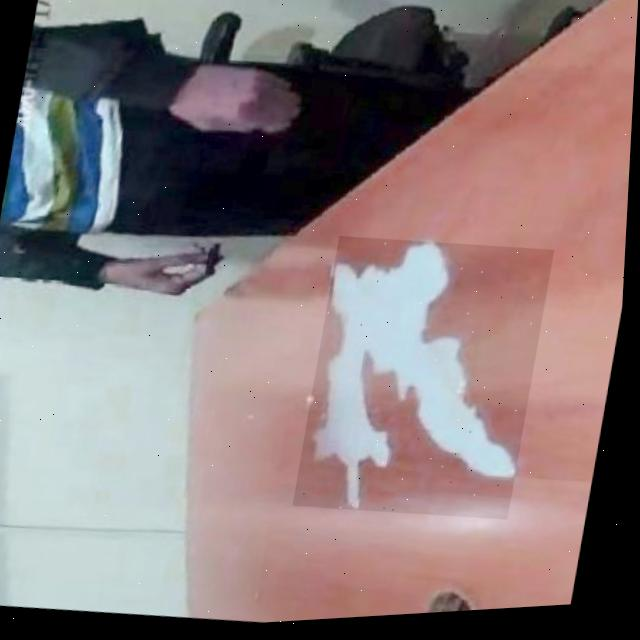spillage: (316, 247, 520, 514)
